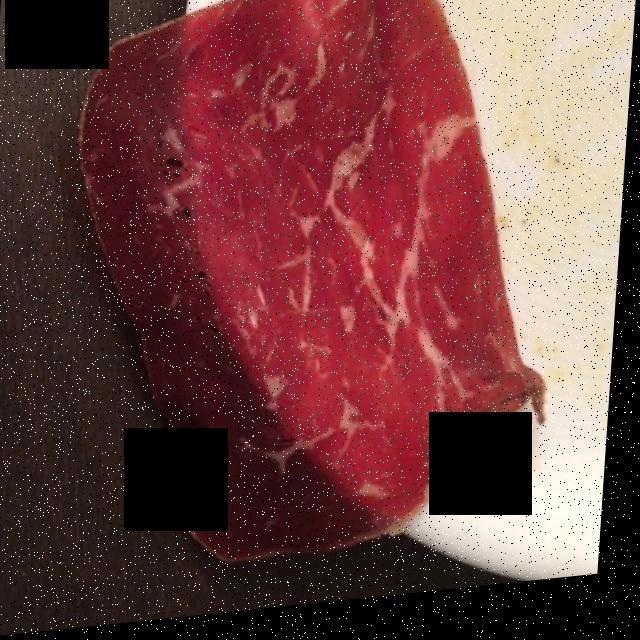dried-meat: (84, 0, 533, 566)
